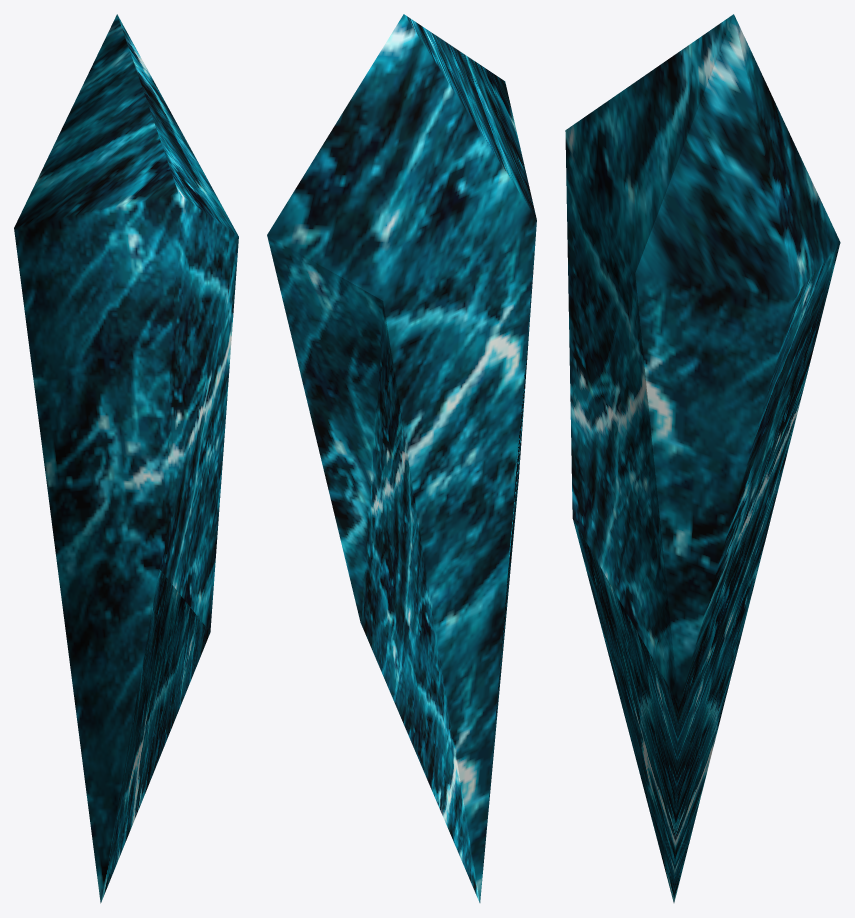
Rendered from c_Cris1a.glb.
3 views of the same model, side by side, from view 1: azimuth 30°, elevation 25°; view 2: azimuth 150°, elevation 25°; view 3: azimuth 270°, elevation 25° (orthographic). The views are drawn at different scales.
Parts seen in each view (by area): view 1: c_Cris1a; view 2: c_Cris1a; view 3: c_Cris1a.
Boxes of the visible parts, bbox=[...] form: c_Cris1a: bbox=[14, 14, 238, 903]; c_Cris1a: bbox=[267, 14, 536, 902]; c_Cris1a: bbox=[565, 14, 840, 902].
Size of the model in its own units: 0.2611 by 0.9889 by 0.27.
1 material, 1 textured.
